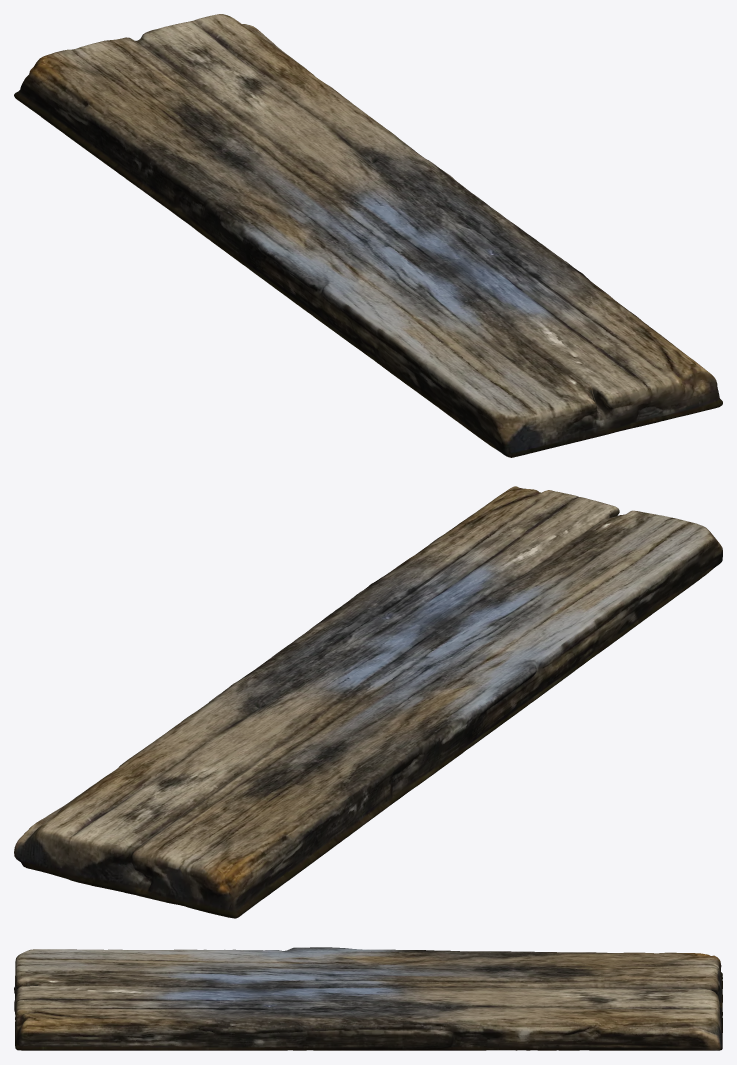
Rendered from floating plank.glb.
3 views of the same model, one above another, from view 1: azimuth 30°, elevation 25°; view 2: azimuth 150°, elevation 25°; view 3: azimuth 270°, elevation 25° (orthographic). The views are drawn at different scales.
Parts seen in each view (by area): view 1: geometry_0; view 2: geometry_0; view 3: geometry_0.
Boxes of the visible parts, x1,y1,x2,y2 form: geometry_0: (14, 14, 722, 457); geometry_0: (14, 486, 722, 918); geometry_0: (14, 947, 722, 1050).
Size of the model in its own units: 0.273 by 0.049 by 0.9956.
1 material, 1 textured.
